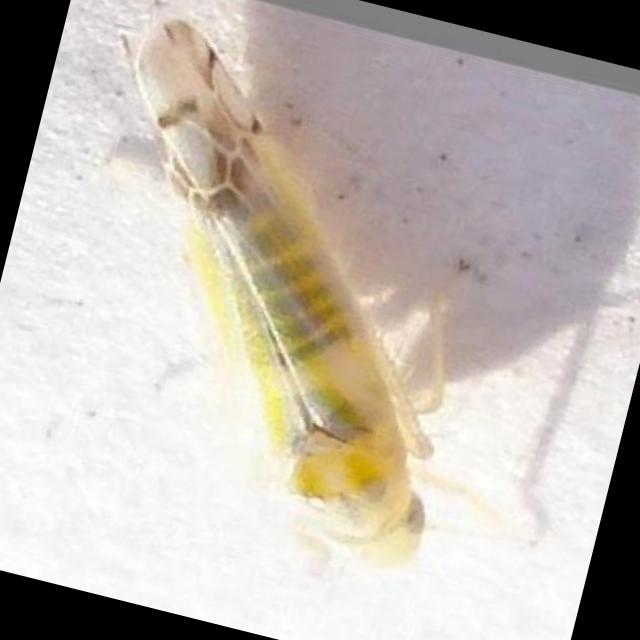green-leafhopper: (120, 15, 513, 566)
